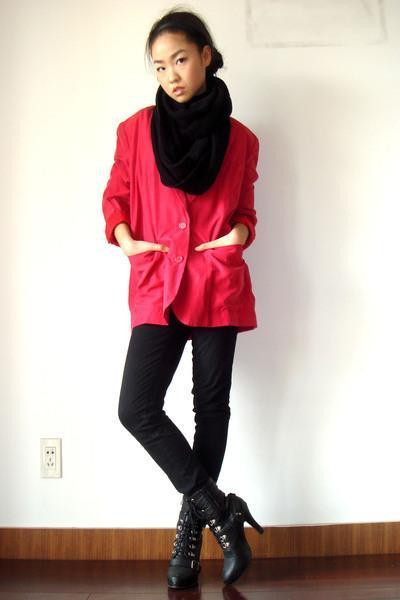jacket: (102, 108, 258, 347)
pants: (118, 308, 243, 489)
shoe: (167, 482, 270, 584)
